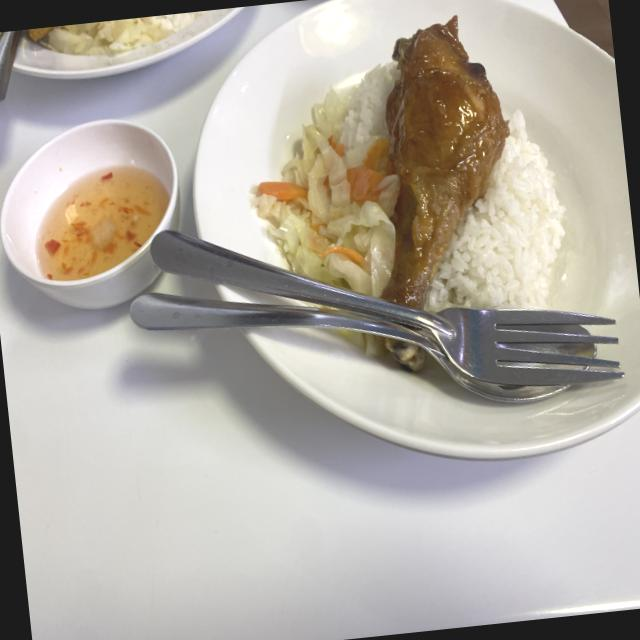bap cai xao: (250, 97, 398, 296)
com: (425, 109, 566, 310)
ga chien: (382, 15, 509, 309)
nuoc mam: (37, 167, 168, 280)
